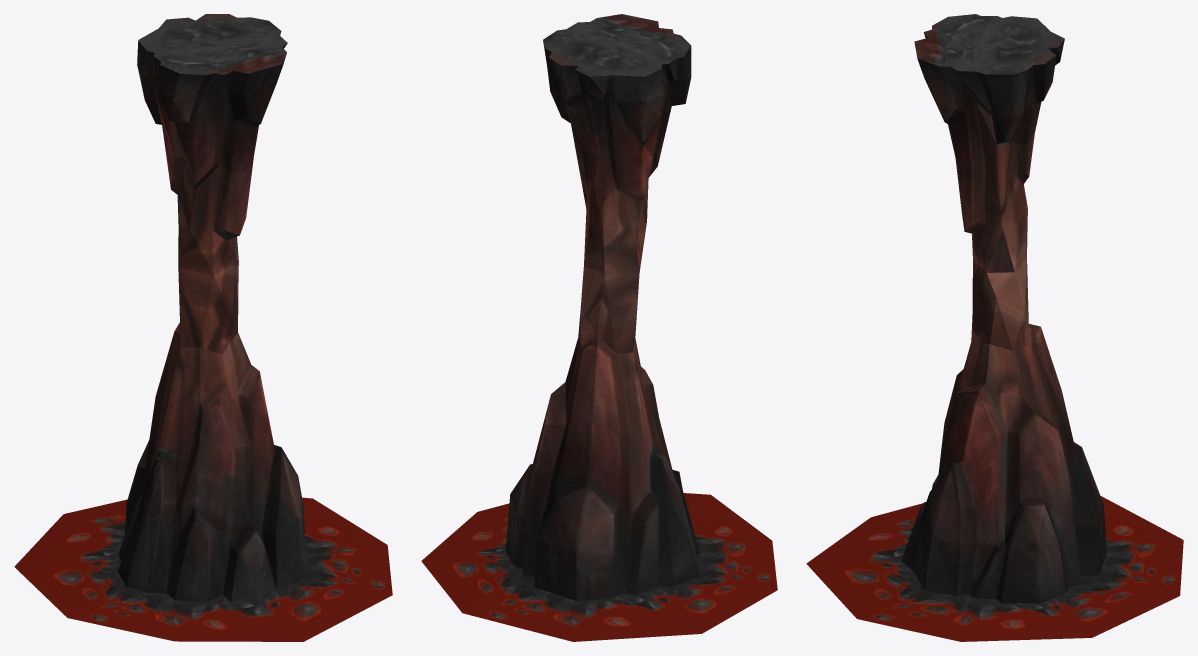
File: lava_column_02.fbx
The picture shows the model from 3 angles, left to right: view 1: azimuth 30°, elevation 25°; view 2: azimuth 150°, elevation 25°; view 3: azimuth 270°, elevation 25°; orthographic projection. The views are drawn at different scales.
Visible parts, largest first — view 1: obj1.029; view 2: obj1.029; view 3: obj1.029.
Boxes of the visible parts, bbox=[...] form: obj1.029: bbox=[14, 14, 392, 641]; obj1.029: bbox=[421, 14, 777, 641]; obj1.029: bbox=[806, 14, 1183, 641].
Bounding box in the file's own units: 10.28 × 16.47 × 10.8.
